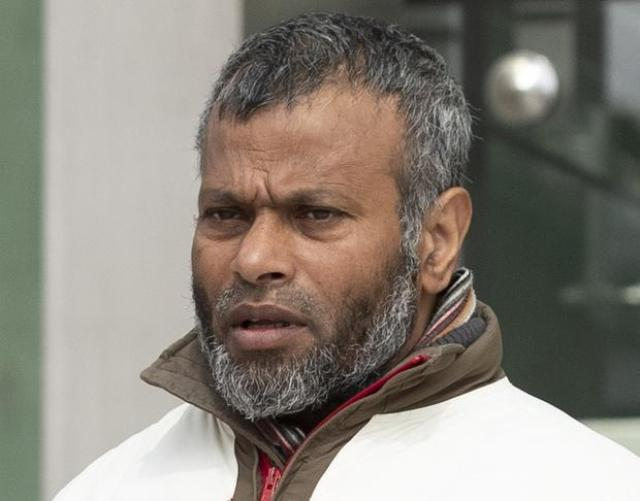forehead: (240, 142, 276, 174)
frown_line: (248, 181, 274, 213)
